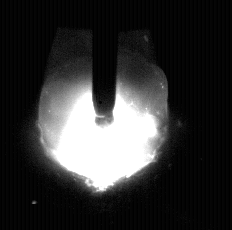arame: (92, 0, 117, 126)
poca: (38, 0, 169, 230)
